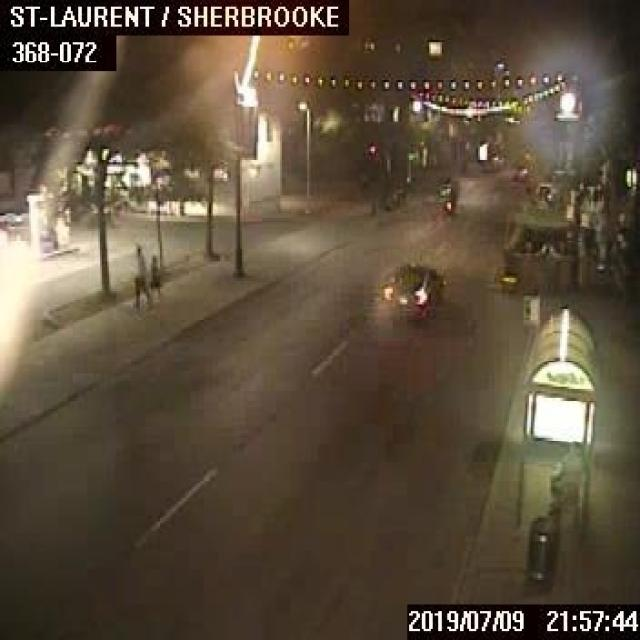pedestrian: (547, 438, 580, 511), (129, 241, 148, 306), (148, 254, 160, 298)
vehicle: (380, 261, 445, 315), (434, 192, 455, 212), (436, 174, 456, 193)
